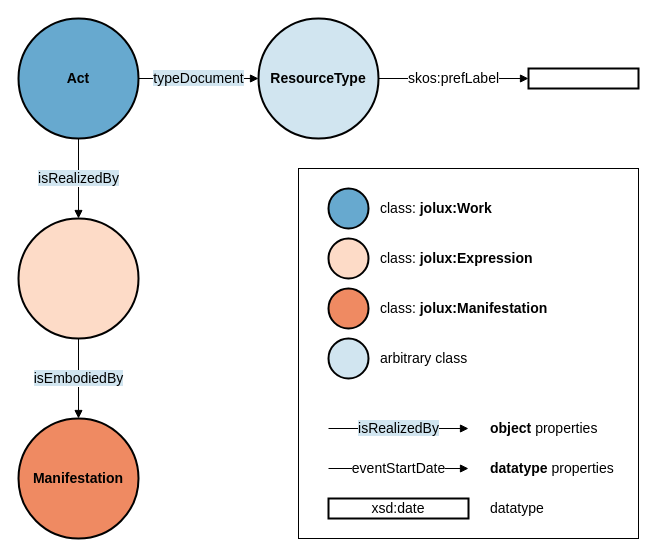
The diagram is 656 pixels wide and 556 high, and some of its shapes have lost their labels. The centre of each missing label's shape, as x and y in pixels:
Expression: [78,278]
xsd:string: [583,78]
